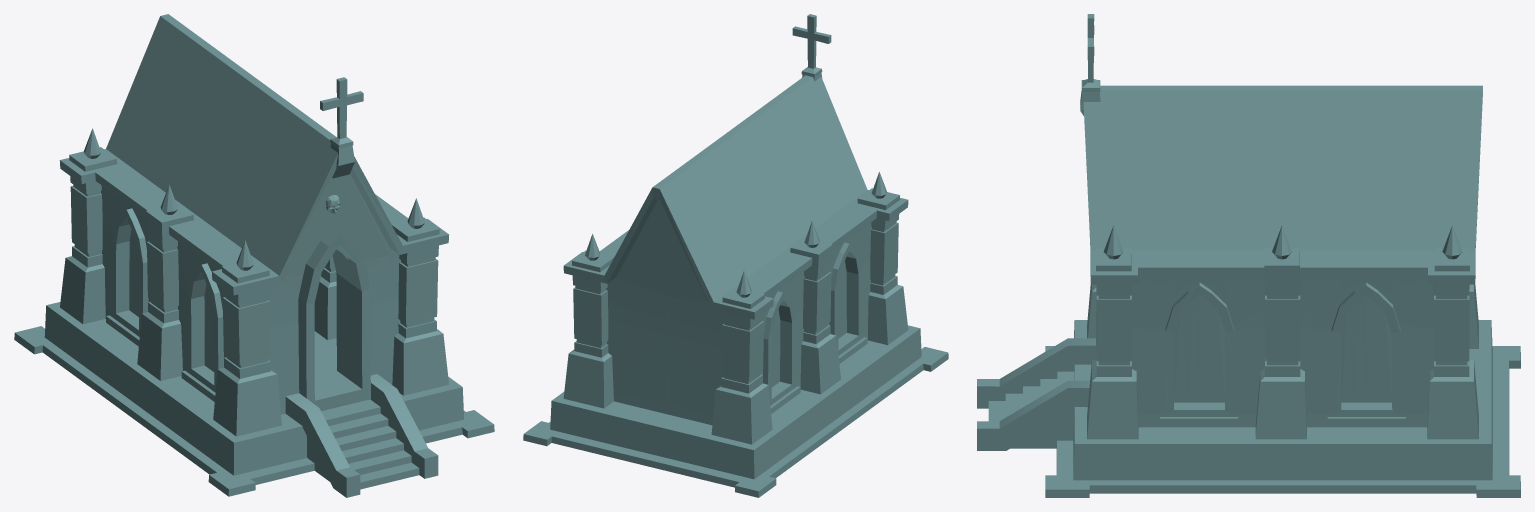
The model's file is Cementery_Cript.fbx.
The picture shows the model from 3 angles, left to right: view 1: azimuth 30°, elevation 25°; view 2: azimuth 150°, elevation 25°; view 3: azimuth 270°, elevation 25°; orthographic projection. The views are drawn at different scales.
Visible parts, largest first — view 1: Crypt; view 2: Crypt; view 3: Crypt.
Boxes of the visible parts, box(x1,y1,x2,y2) form: Crypt: box(14, 14, 494, 497); Crypt: box(523, 14, 948, 497); Crypt: box(977, 14, 1520, 497).
Bounding box in the file's own units: 316 × 421 × 505.
